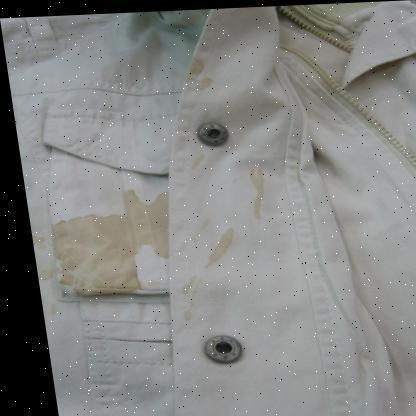coffee: (69, 218, 127, 288), (131, 196, 166, 242), (251, 174, 264, 217), (188, 62, 201, 79), (222, 233, 230, 251)
